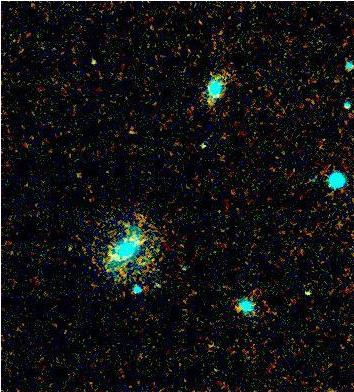star: (77, 47, 107, 77)
